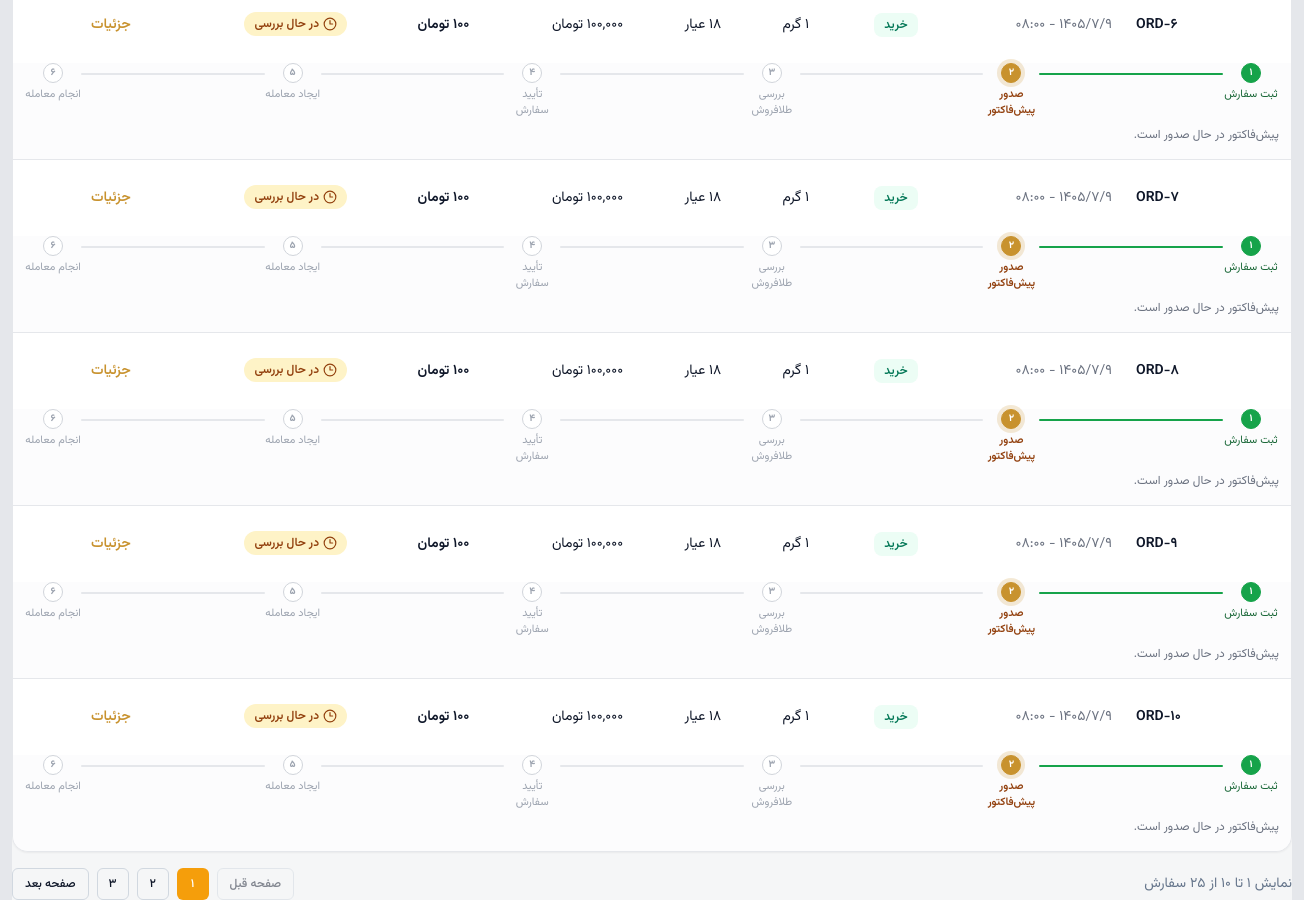
Scenario: portal orders pagination › shows Persian page numbers and requests the selected page
The image size is (1304, 900).
(page scrolled)
Expected: the text "نمایش ۱ تا ۱۰ از ۲۵ سفارش" is shown, top-left (1144, 874), bottom-right (1292, 894)
Expected: the button named "صفحه ۱" is shown, top-left (177, 868), bottom-right (209, 899)
Click the button named "صفحه ۲" at (153, 884), box top-left (137, 868), bottom-right (169, 899)
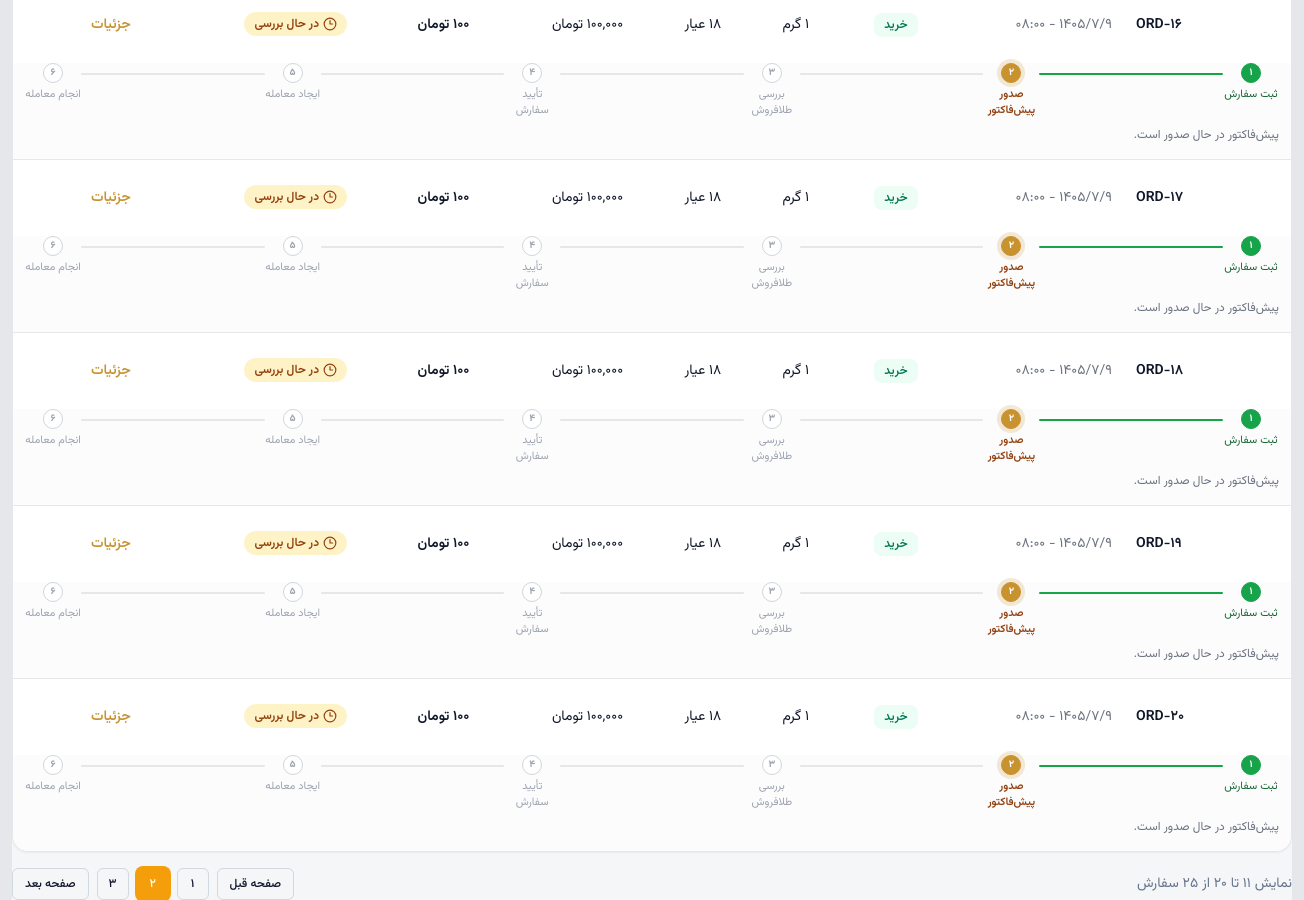
Expected: the text "نمایش ۱۱ تا ۲۰ از ۲۵ سفارش" is shown, top-left (1137, 874), bottom-right (1292, 894)
